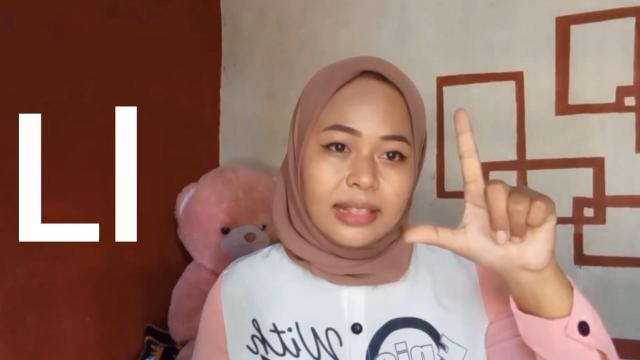L: (401, 105, 559, 277)
